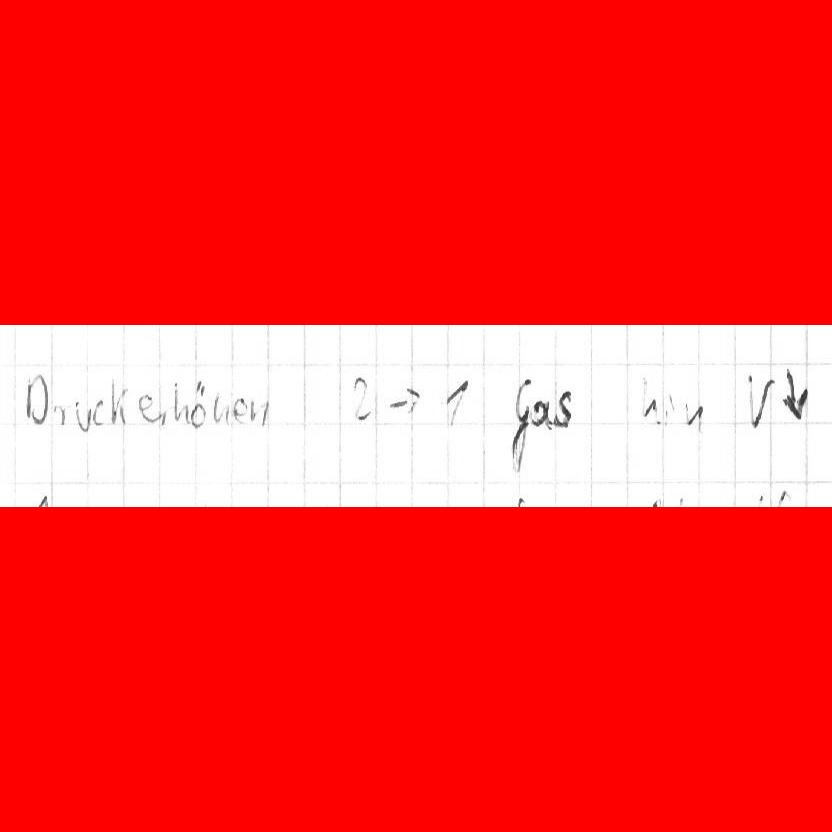Char: (508, 375, 531, 472), (742, 368, 776, 429), (780, 365, 811, 424), (443, 374, 472, 429), (24, 369, 49, 427), (349, 374, 376, 423), (640, 372, 662, 429), (108, 376, 131, 426), (387, 385, 423, 415), (552, 388, 577, 427), (188, 378, 207, 428), (529, 397, 554, 430), (172, 380, 189, 426), (73, 397, 92, 435), (212, 390, 231, 426), (250, 396, 271, 428), (136, 390, 154, 423), (52, 400, 72, 429), (91, 394, 106, 428), (233, 395, 248, 426), (157, 404, 169, 427)
